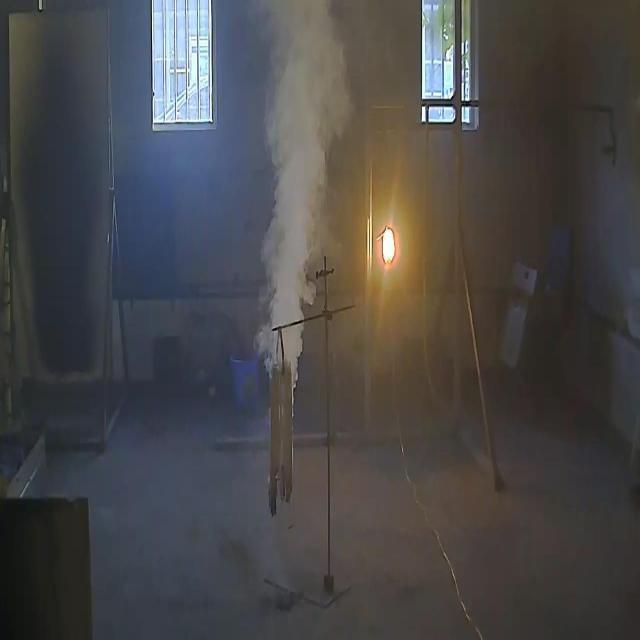smoke: (245, 0, 361, 432)
